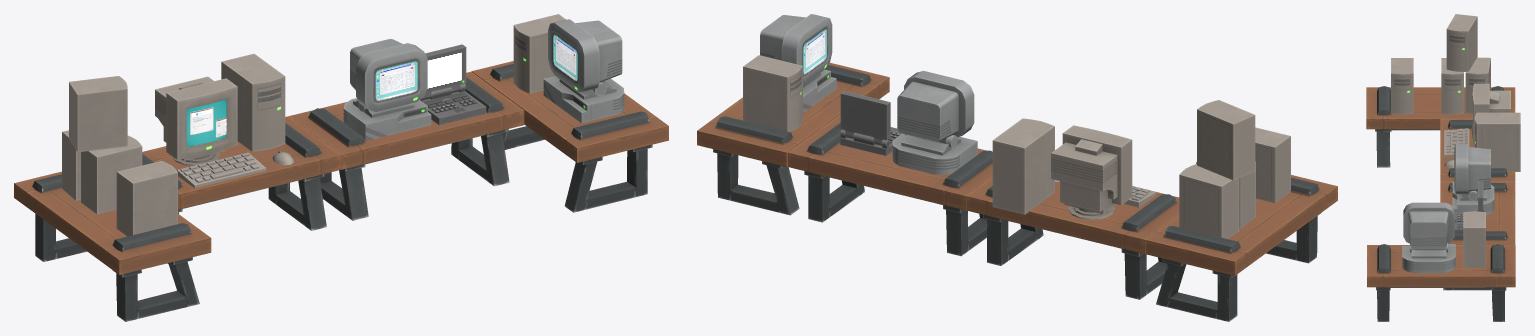
File: Prfb_Controller__2.fbx
The picture shows the model from 3 angles, left to right: view 1: azimuth 30°, elevation 25°; view 2: azimuth 150°, elevation 25°; view 3: azimuth 270°, elevation 25°; orthographic projection. The views are drawn at different scales.
Visible parts, largest first — view 1: Mat_Computer_01_01, Mat_Indoors_Table_02; view 2: Mat_Computer_01_01, Mat_Indoors_Table_02; view 3: Mat_Computer_01_01, Mat_Indoors_Table_02.
Boxes of the visible parts, left/top/right/bottom form: Mat_Computer_01_01: left=62, top=14, right=624, bottom=236; Mat_Indoors_Table_02: left=14, top=61, right=668, bottom=321; Mat_Computer_01_01: left=743, top=14, right=1290, bottom=238; Mat_Indoors_Table_02: left=697, top=62, right=1337, bottom=321; Mat_Computer_01_01: left=1391, top=14, right=1520, bottom=273; Mat_Indoors_Table_02: left=1366, top=86, right=1515, bottom=321.
Bounding box in the file's own units: 5.44 × 1.75 × 1.87.
Materials: 2 (2 with a texture image).
